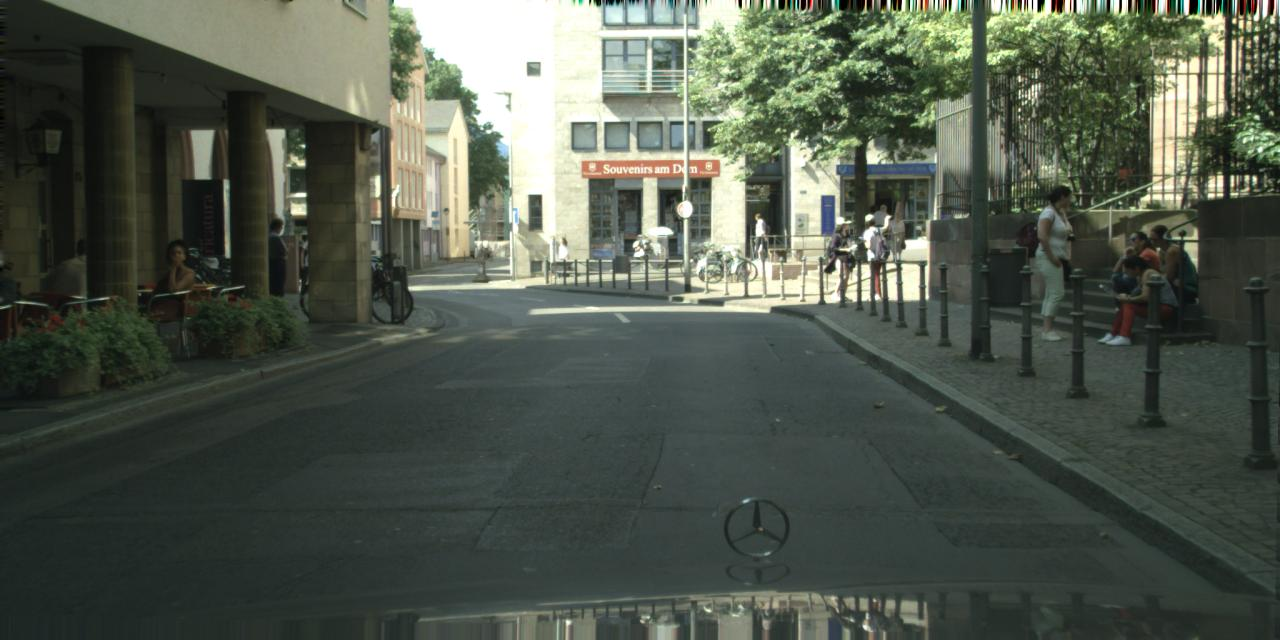ped: (1022, 183, 1086, 341), (254, 217, 294, 316), (823, 216, 859, 304), (856, 213, 890, 299), (300, 228, 325, 290), (290, 240, 309, 290), (886, 212, 905, 260), (871, 205, 890, 252), (750, 213, 768, 259), (555, 236, 571, 277)
